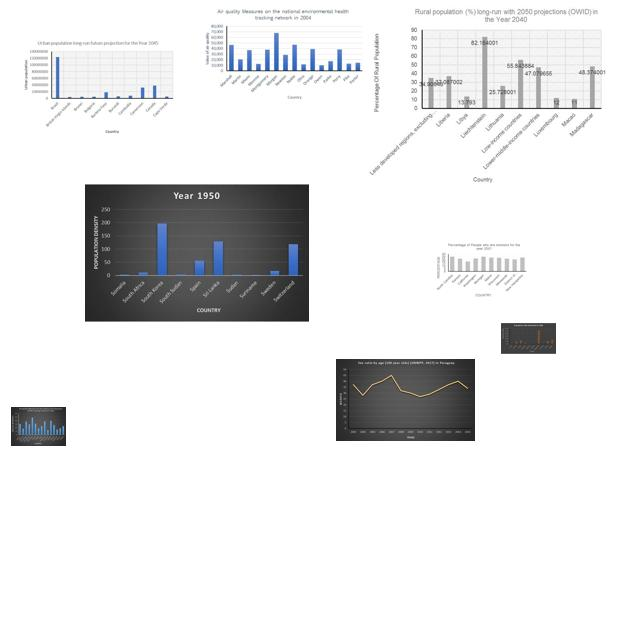Graph: (369, 3, 606, 185), (85, 184, 309, 322), (19, 37, 176, 139), (201, 6, 366, 102), (336, 359, 475, 441), (435, 242, 529, 299), (11, 407, 66, 446), (501, 323, 556, 354)
